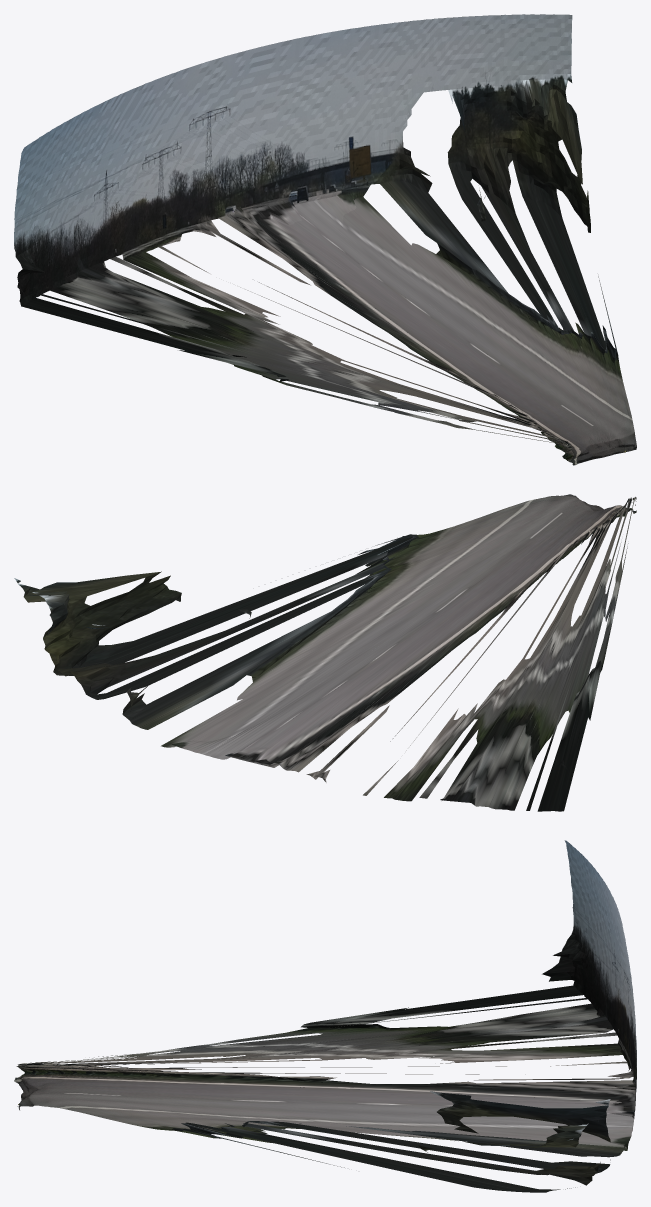
3 views of the same model, one above another, from view 1: azimuth 30°, elevation 25°; view 2: azimuth 150°, elevation 25°; view 3: azimuth 270°, elevation 25° (orthographic). The views are drawn at different scales.
Parts seen in each view (by area): view 1: defaultobject; view 2: defaultobject; view 3: defaultobject.
Boxes of the visible parts, <box> form: defaultobject: <box>14,14,636,465</box>; defaultobject: <box>14,494,636,811</box>; defaultobject: <box>14,840,636,1192</box>.
Size of the model in its own units: 41.05 by 12.53 by 44.55.
1 material, 1 textured.
